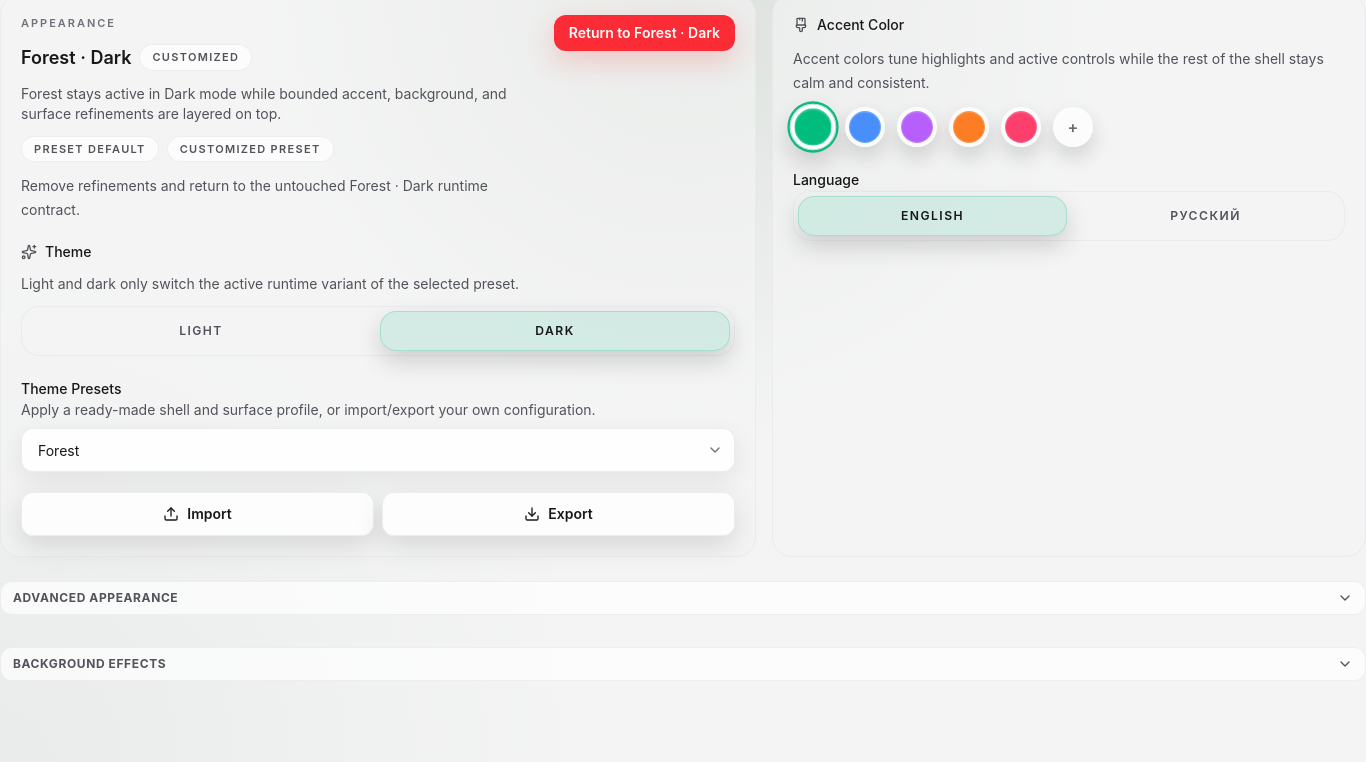
Test case: AppearanceTab background controls › shows only video controls when video is the active background type
Click the button "Background Effects" at (90, 664), box [0,647,1365,681]
(page scrolled)
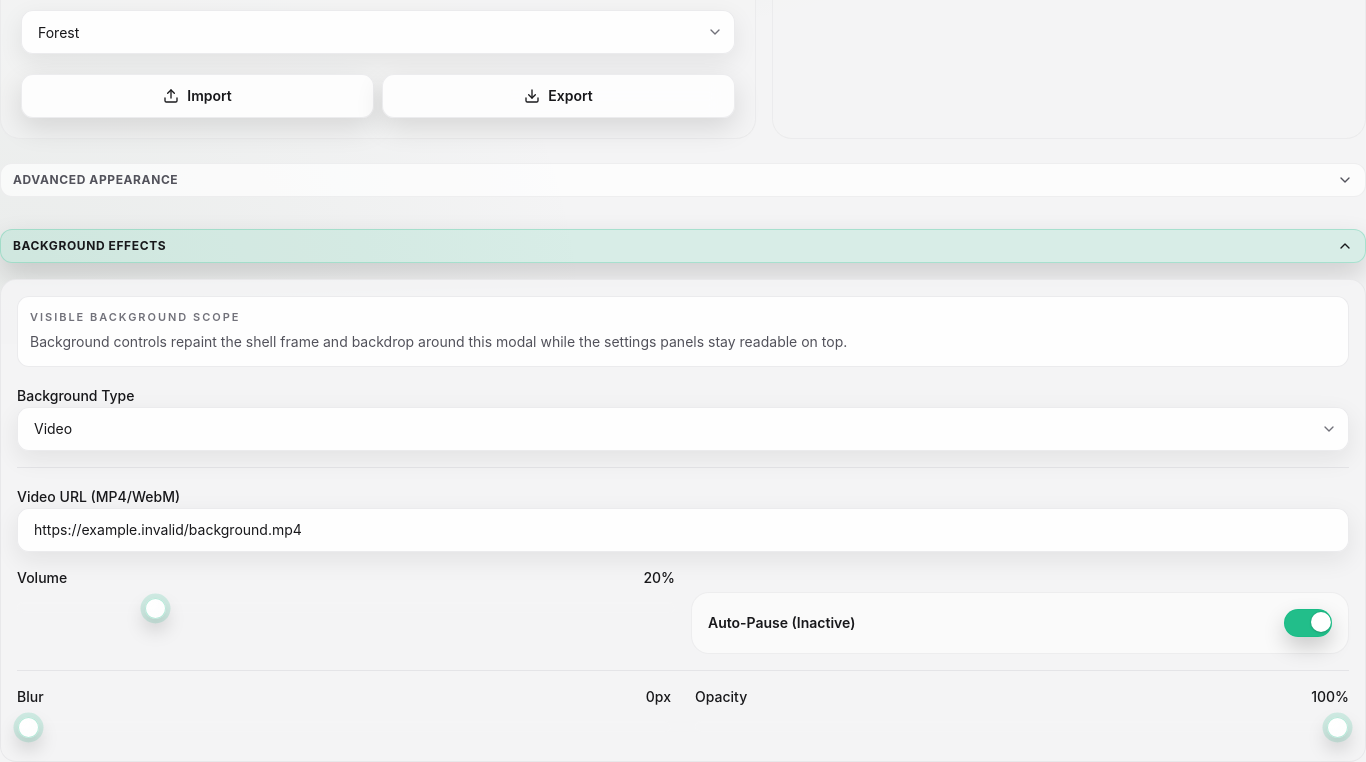
Expected: the text "Visible Background Scope" is shown, [30,310,240,324]
Expected: the text "Video URL (MP4/WebM)" is shown, [17,488,180,505]
Expected: the text "Auto-Pause (Inactive)" is shown, [708,614,855,631]
